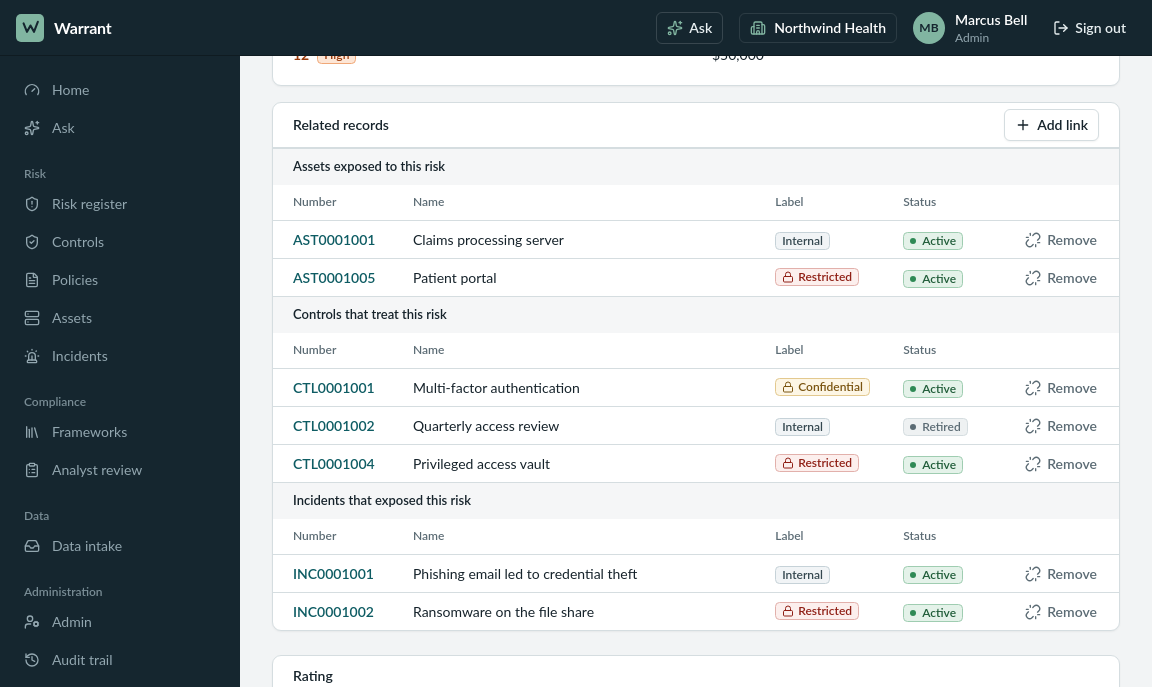
Test: 409 ai_link_review_only (D207) › shows the Analyst message and refreshes the group
(page scrolled)
expect the row "CTL0001001" is shown: met, box [273, 368, 1119, 406]
Step 1. Click the button "Remove" in the row of "CTL0001001" → (1061, 388), box [1015, 374, 1107, 402]
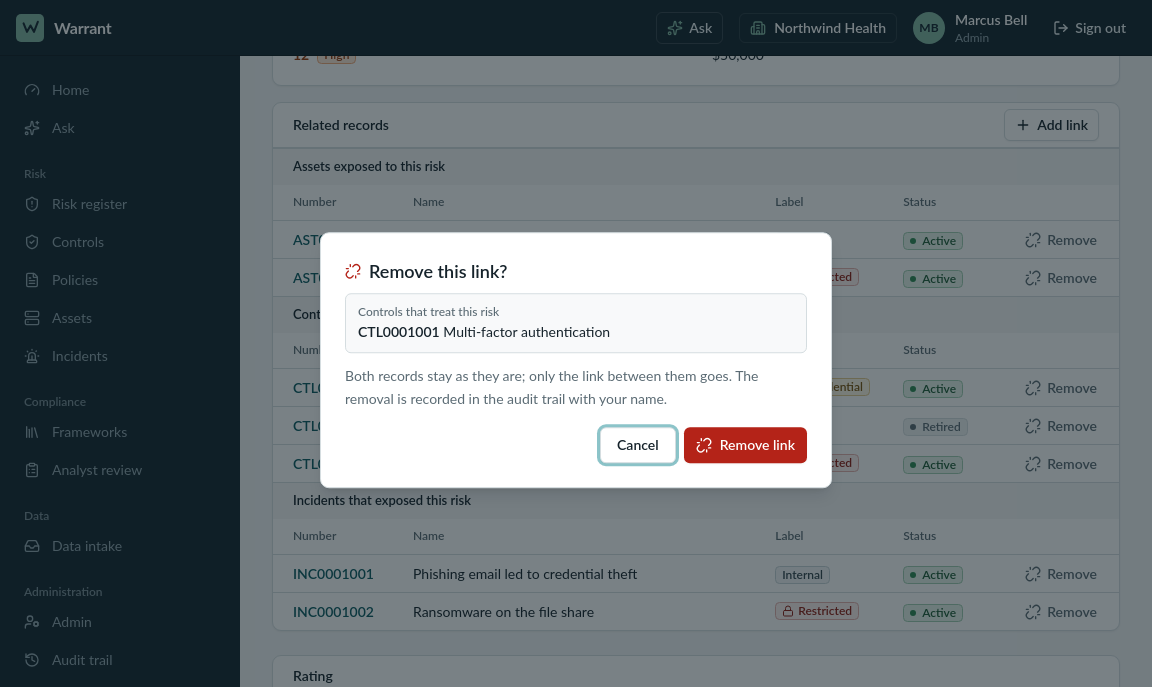
Step 2. Click the button "Remove link" → (745, 445), box [684, 427, 807, 463]
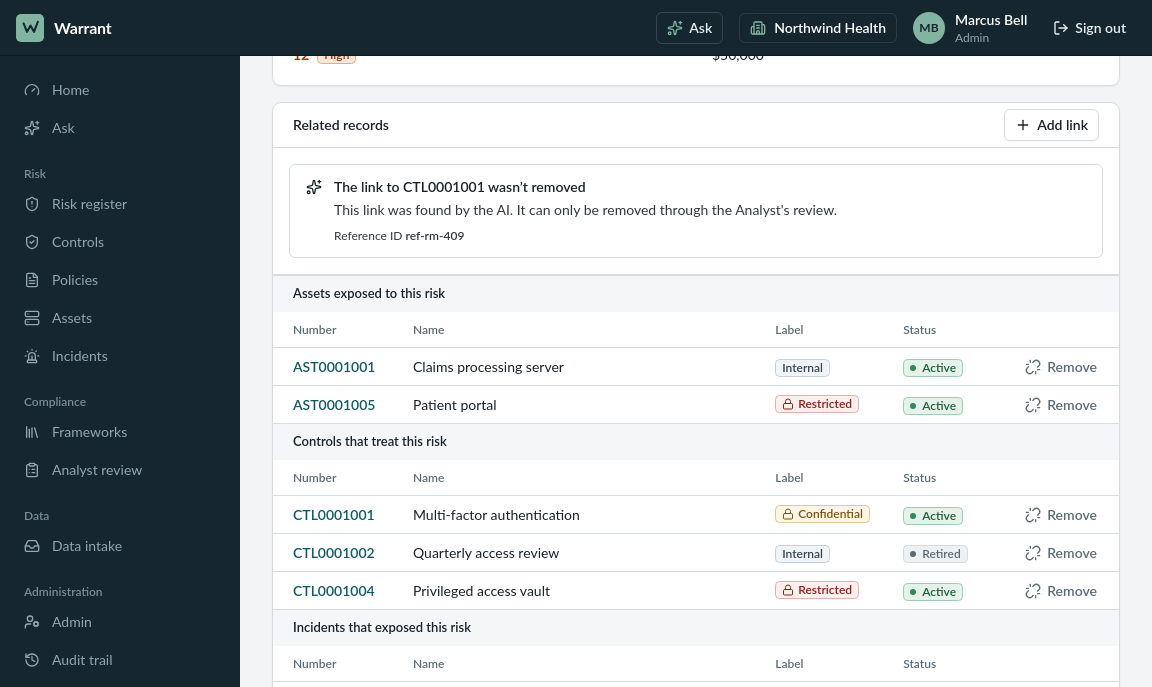
expect the row "CTL0001001" is shown: met, box [273, 496, 1119, 534]
expect the text "this link was found by the ai. it can only be removed through the analyst.s review." is shown: met, box [334, 201, 837, 218]
